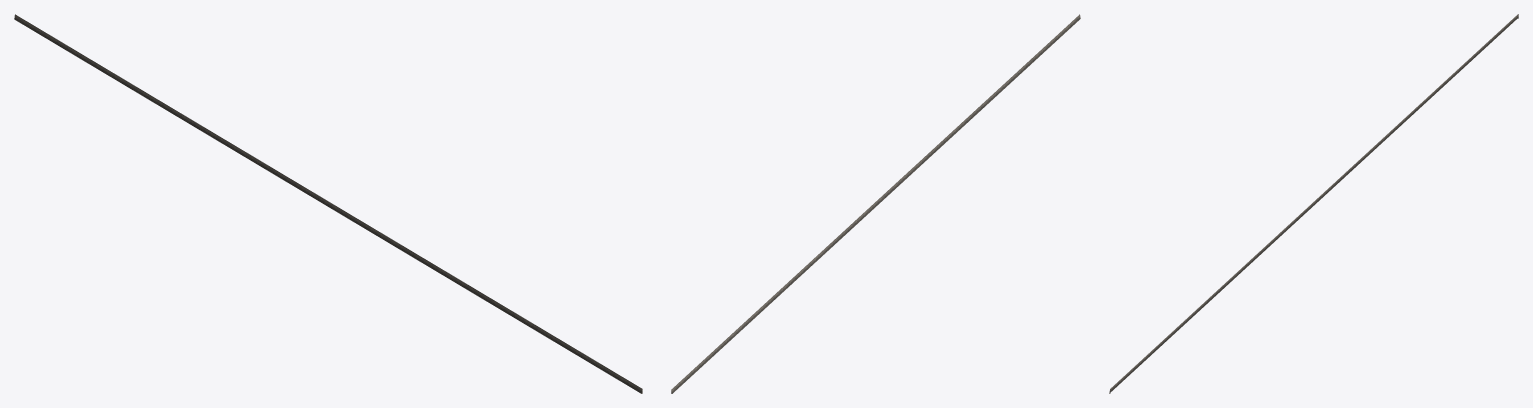
3 renders of one model, left to right at view 1: azimuth 30°, elevation 25°; view 2: azimuth 150°, elevation 25°; view 3: azimuth 330°, elevation 25°, orthographic. The views are drawn at different scales.
Visible parts, largest first — view 1: geometry_0; view 2: geometry_0; view 3: geometry_0.
Boxes of the visible parts, x1,y1,x2,y2 form: geometry_0: (14,14,642,393); geometry_0: (671,14,1080,393); geometry_0: (1109,14,1518,393).
Size of the model in its own units: 15.46 by 0.8789 by 164.
Materials: 1 (1 with a texture image).
